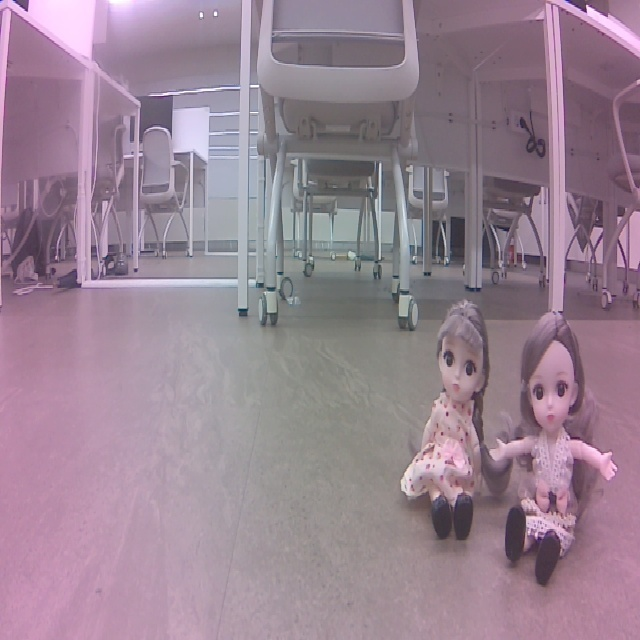장애물: (516, 269, 616, 510)
